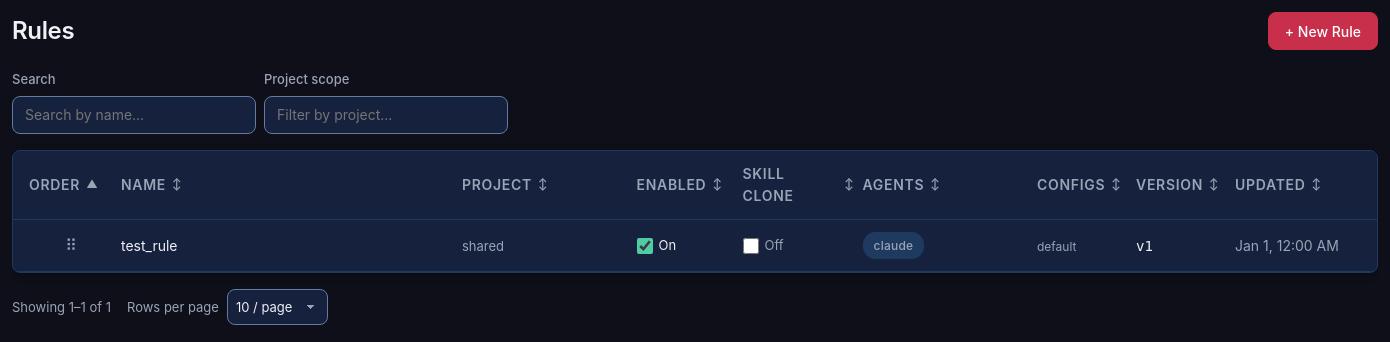
Scenario: HarnessIndexPage › rejects an old poll after filters change and waits for settled criteria
The image size is (1390, 342).
Type "current" into the field labelled "Search" at (134, 114), box [12,96,256,134]
Wait 15300 ms
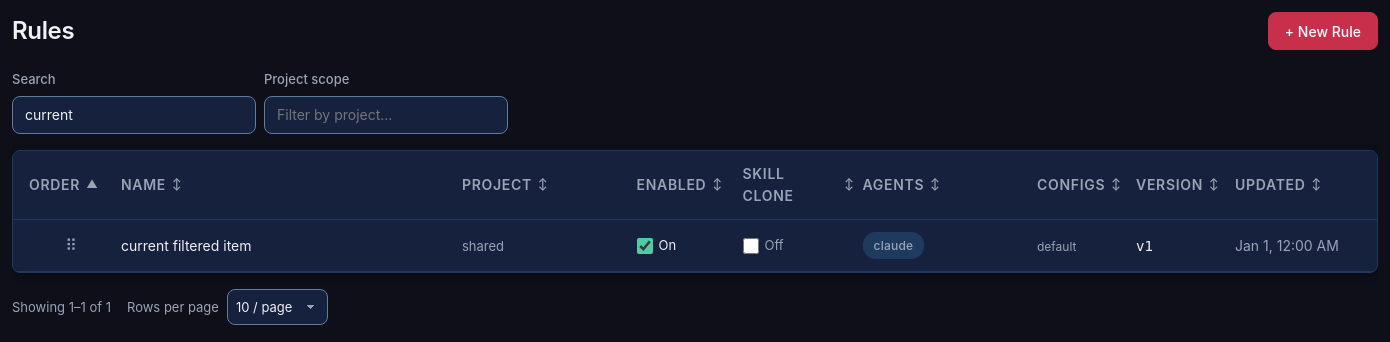
Check: the text "current filtered item" is shown, box [121,237,252,254]
